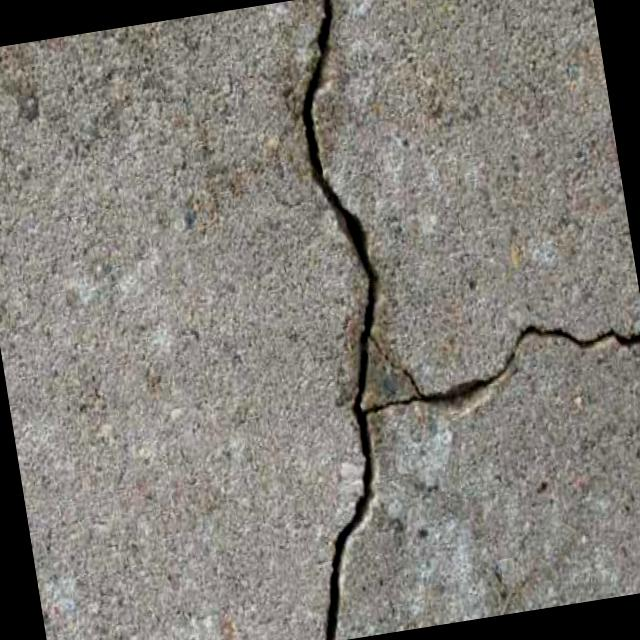crack: (225, 0, 433, 640), (378, 297, 640, 426)
